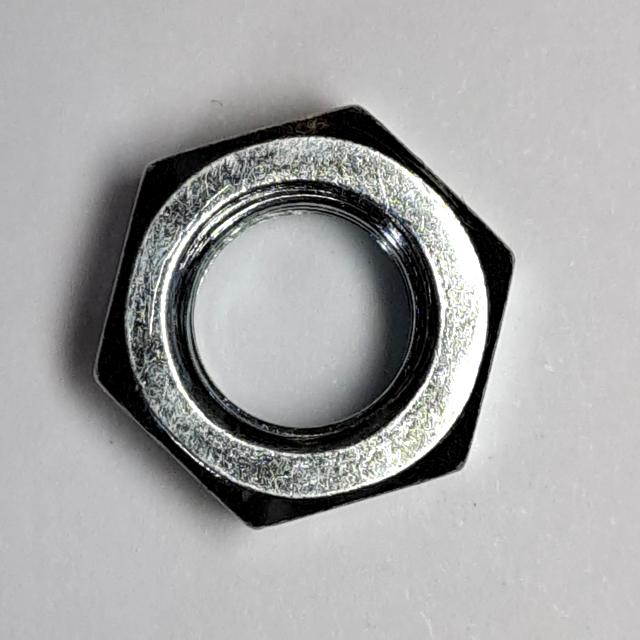Excellent: (68, 90, 537, 538)
